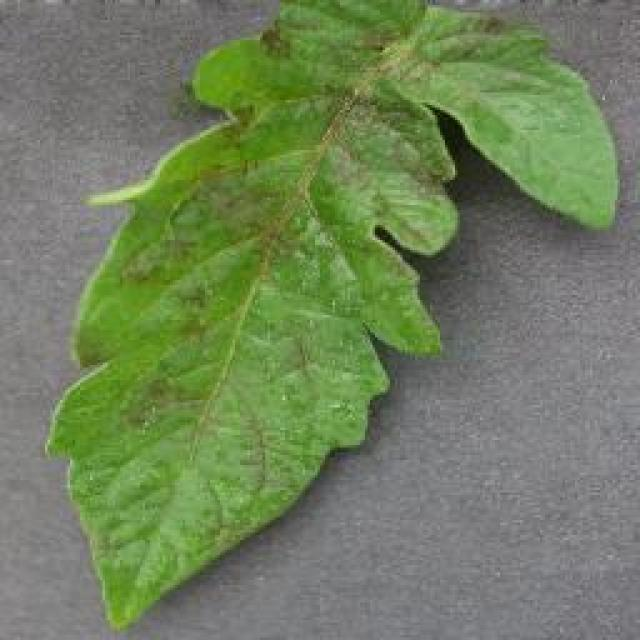Tomato Late Blight: (145, 24, 473, 488)
